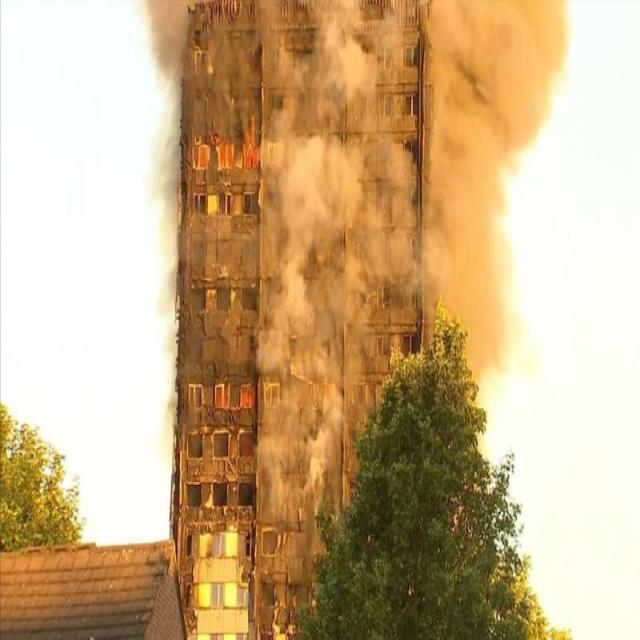Fire: (186, 104, 266, 180), (210, 370, 258, 408)
Smoke: (148, 0, 570, 602)
